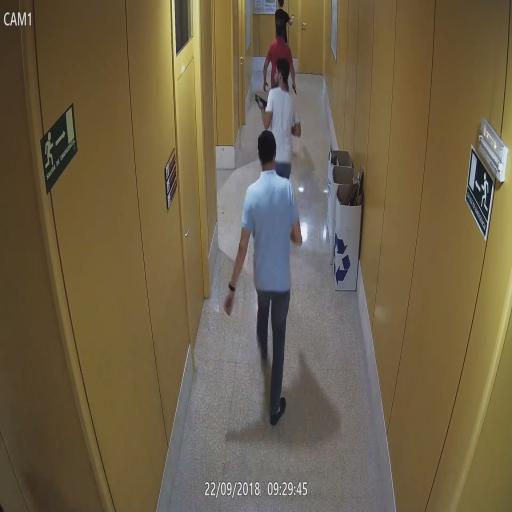Handgun: (290, 82, 298, 94), (289, 13, 295, 18)
